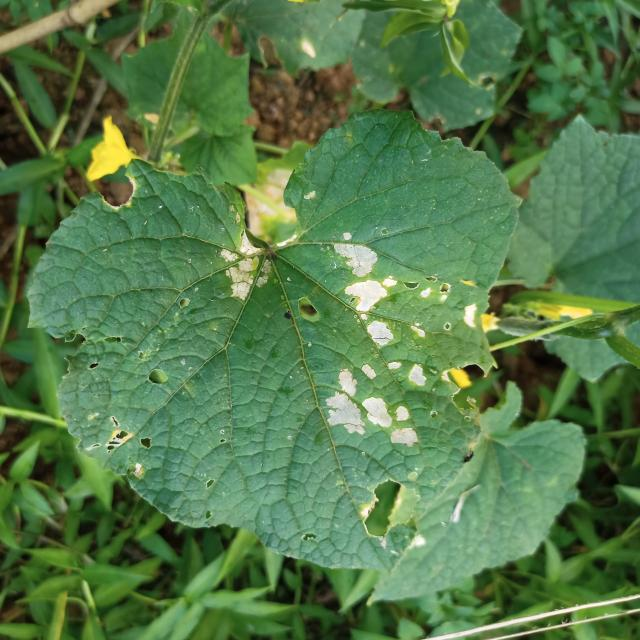disease_cucumber: (315, 229, 468, 465), (206, 223, 291, 319)
